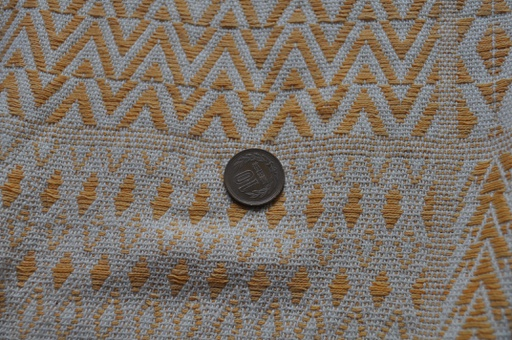10yen: (224, 149, 284, 207)
